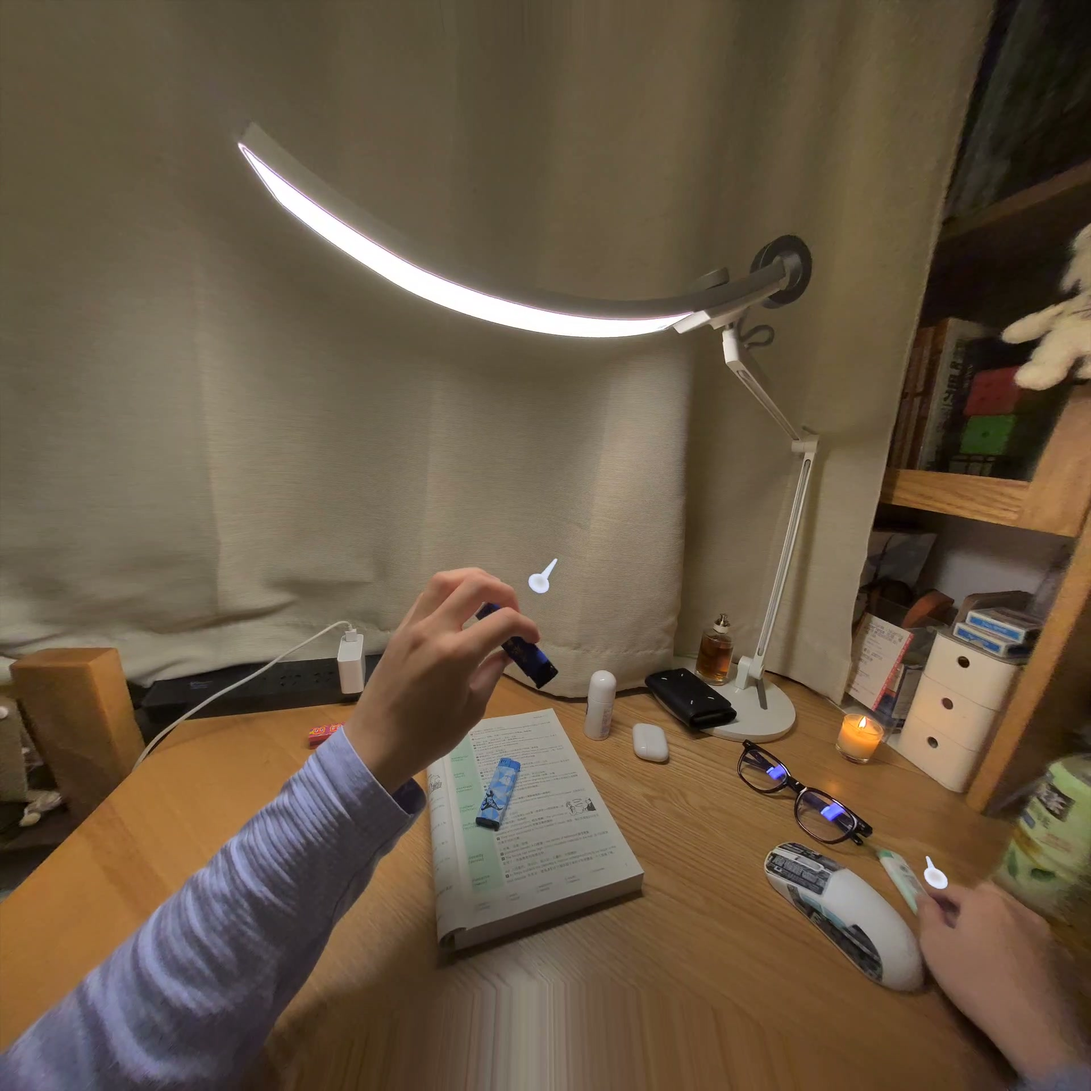lighter: (501, 636, 556, 689)
